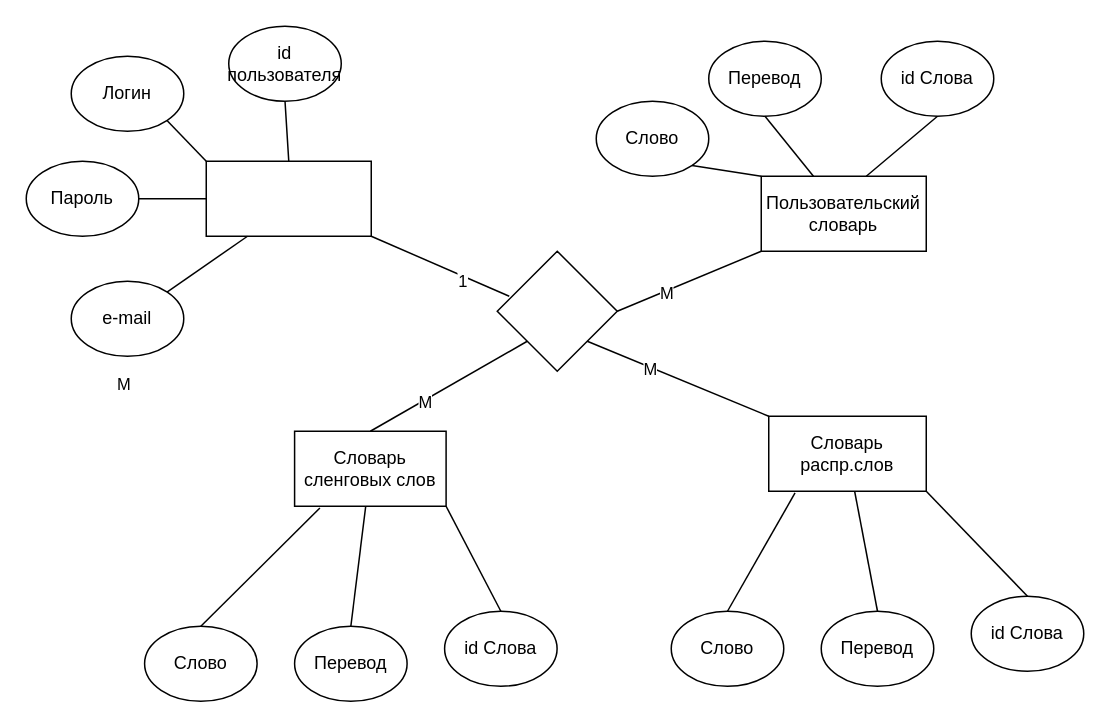
The diagram is 1110 pixels wide and 728 high, and some of its shapes have lost their labels. The box of each missing label's shape, as (x1, y1, x2, y2) in pixels:
изучает: (496, 250, 617, 371)
Пользователь: (205, 160, 371, 236)
